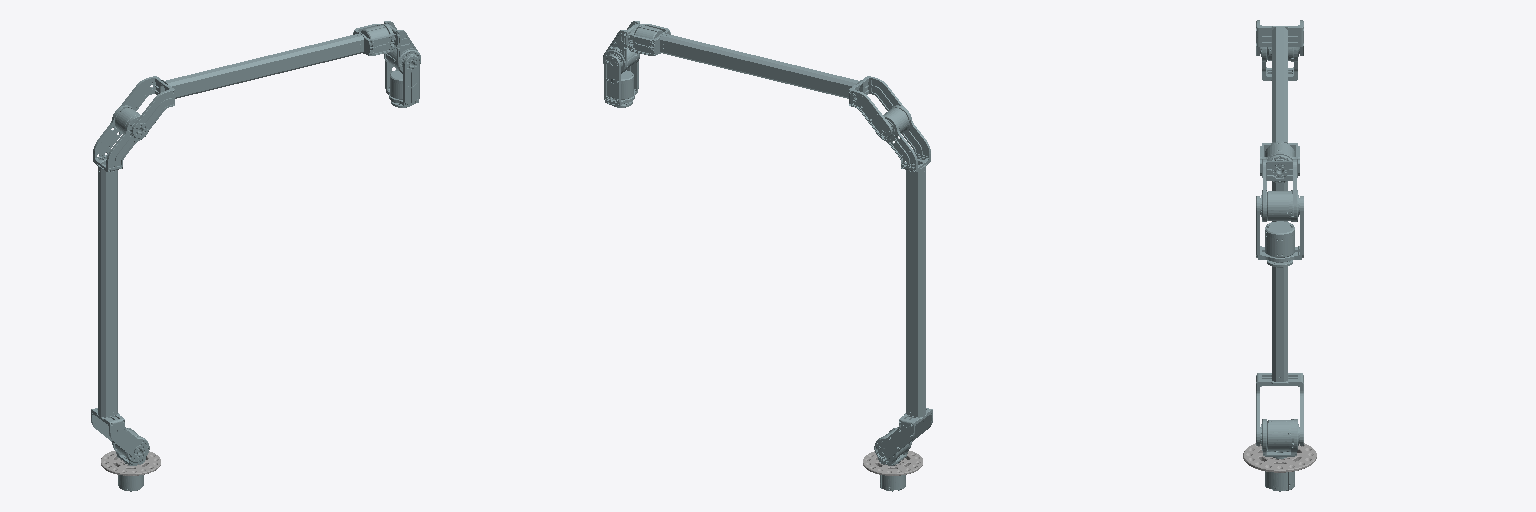
robot.urdf — aimira6:
<?xml version="1.0" encoding="utf-8"?>
<!-- This URDF was automatically created by SolidWorks to URDF Exporter! Originally created by [author] ([email redacted]) 
     Commit Version: 1.6.0-4-g7f85cfe  Build Version: 1.6.7995.38578
     For more information, please see http://wiki.ros.org/sw_urdf_exporter -->
<robot
  name="aimira6">
  <link
    name="base_link">
    <inertial>
      <origin
        xyz="1.04017952292692E-08 6.88547954296048E-11 -0.00393182591263425"
        rpy="0 0 0" />
      <mass
        value="0.153366893342015" />
      <inertia
        ixx="0.000134824007797941"
        ixy="-5.36407098097221E-12"
        ixz="1.08678826257515E-11"
        iyy="0.000134824070151333"
        iyz="1.47533667666662E-13"
        izz="0.000267137850222388" />
    </inertial>
    <visual>
      <origin
        xyz="0 0 0"
        rpy="0 0 0" />
      <geometry>
        <mesh
          filename="package://aimira6/meshes/base_link.STL" />
      </geometry>
      <material
        name="">
        <color
          rgba="0.690196078431373 0.690196078431373 0.690196078431373 1" />
      </material>
    </visual>
    <collision>
      <origin
        xyz="0 0 0"
        rpy="0 0 0" />
      <geometry>
        <mesh
          filename="package://aimira6/meshes/base_link.STL" />
      </geometry>
    </collision>
  </link>
  <link
    name="link1">
    <inertial>
      <origin
        xyz="0.000109828579629579 -0.000165175805369598 -0.019808653010817"
        rpy="0 0 0" />
      <mass
        value="0.314152170173888" />
      <inertia
        ixx="7.64604482226176E-05"
        ixy="-3.11978712692391E-07"
        ixz="7.97142740238091E-09"
        iyy="8.61669728197303E-05"
        iyz="-6.45286703390183E-08"
        izz="9.02262510469105E-05" />
    </inertial>
    <visual>
      <origin
        xyz="0 0 0"
        rpy="0 0 0" />
      <geometry>
        <mesh
          filename="package://aimira6/meshes/link1.STL" />
      </geometry>
      <material
        name="">
        <color
          rgba="0.592156862745098 0.666666666666667 0.682352941176471 1" />
      </material>
    </visual>
    <collision>
      <origin
        xyz="0 0 0"
        rpy="0 0 0" />
      <geometry>
        <mesh
          filename="package://aimira6/meshes/link1.STL" />
      </geometry>
    </collision>
  </link>
  <joint
    name="joint1"
    type="revolute">
    <origin
      xyz="0 0 0"
      rpy="0 0 0" />
    <parent
      link="base_link" />
    <child
      link="link1" />
    <axis
      xyz="0 0 1" />
    <limit
      lower="0"
      upper="0"
      effort="0"
      velocity="0" />
  </joint>
  <link
    name="link2">
    <inertial>
      <origin
        xyz="-0.0301961591482603 0.244586379833867 -0.0007347839341934"
        rpy="0 0 0" />
      <mass
        value="0.777713706471678" />
      <inertia
        ixx="0.00773190010450537"
        ixy="-7.71121525104686E-06"
        ixz="-6.02041690223417E-06"
        iyy="0.000271753322008837"
        iyz="-6.33071741169116E-07"
        izz="0.0078708368316307" />
    </inertial>
    <visual>
      <origin
        xyz="0 0 0"
        rpy="0 0 0" />
      <geometry>
        <mesh
          filename="package://aimira6/meshes/link2.STL" />
      </geometry>
      <material
        name="">
        <color
          rgba="0.592156862745098 0.666666666666667 0.682352941176471 1" />
      </material>
    </visual>
    <collision>
      <origin
        xyz="0 0 0"
        rpy="0 0 0" />
      <geometry>
        <mesh
          filename="package://aimira6/meshes/link2.STL" />
      </geometry>
    </collision>
  </link>
  <joint
    name="joint2"
    type="revolute">
    <origin
      xyz="0 0 0.0345"
      rpy="1.5708 0 0.051022" />
    <parent
      link="link1" />
    <child
      link="link2" />
    <axis
      xyz="-0.051 0 0.9987" />
    <limit
      lower="0"
      upper="0"
      effort="0"
      velocity="0" />
  </joint>
  <link
    name="link3">
    <inertial>
      <origin
        xyz="0.185192224022038 0.0311040596506036 0.000586519231663198"
        rpy="0 0 0" />
      <mass
        value="0.688903385722527" />
      <inertia
        ixx="0.000213264577740228"
        ixy="-4.25096101453383E-05"
        ixz="-6.28896717935606E-07"
        iyy="0.00433913949748342"
        iyz="-6.71312866117713E-07"
        izz="0.00441755349825434" />
    </inertial>
    <visual>
      <origin
        xyz="0 0 0"
        rpy="0 0 0" />
      <geometry>
        <mesh
          filename="package://aimira6/meshes/link3.STL" />
      </geometry>
      <material
        name="">
        <color
          rgba="0.592156862745098 0.666666666666667 0.682352941176471 1" />
      </material>
    </visual>
    <collision>
      <origin
        xyz="0 0 0"
        rpy="0 0 0" />
      <geometry>
        <mesh
          filename="package://aimira6/meshes/link3.STL" />
      </geometry>
    </collision>
  </link>
  <joint
    name="joint3"
    type="revolute">
    <origin
      xyz="0 0.7 0"
      rpy="0 -0.051022 0" />
    <parent
      link="link2" />
    <child
      link="link3" />
    <axis
      xyz="0 0 1" />
    <limit
      lower="0"
      upper="0"
      effort="0"
      velocity="0" />
  </joint>
  <link
    name="link4">
    <inertial>
      <origin
        xyz="0.00740957421480504 -0.000315480442245499 -0.0466896418344882"
        rpy="0 0 0" />
      <mass
        value="0.334652497698763" />
      <inertia
        ixx="7.79899479136191E-05"
        ixy="-3.033429159648E-07"
        ixz="-9.25838976256045E-06"
        iyy="0.000124172042266161"
        iyz="-1.89972976382329E-08"
        izz="0.000126239646901981" />
    </inertial>
    <visual>
      <origin
        xyz="0 0 0"
        rpy="0 0 0" />
      <geometry>
        <mesh
          filename="package://aimira6/meshes/link4.STL" />
      </geometry>
      <material
        name="">
        <color
          rgba="0.592156862745098 0.666666666666667 0.682352941176471 1" />
      </material>
    </visual>
    <collision>
      <origin
        xyz="0 0 0"
        rpy="0 0 0" />
      <geometry>
        <mesh
          filename="package://aimira6/meshes/link4.STL" />
      </geometry>
    </collision>
  </link>
  <joint
    name="joint4"
    type="revolute">
    <origin
      xyz="0.618 0.052 0"
      rpy="-1.5708 0 -1.5708" />
    <parent
      link="link3" />
    <child
      link="link4" />
    <axis
      xyz="0 0 1" />
    <limit
      lower="0"
      upper="0"
      effort="0"
      velocity="0" />
  </joint>
  <link
    name="link5">
    <inertial>
      <origin
        xyz="0.0141179016225014 -0.000144175611274444 0.0012823710617245"
        rpy="0 0 0" />
      <mass
        value="0.334352173137141" />
      <inertia
        ixx="8.30386716577822E-05"
        ixy="1.24971203941448E-08"
        ixz="-8.2084074321369E-07"
        iyy="0.000137398625968353"
        iyz="-1.01136579011778E-08"
        izz="0.000155218516612205" />
    </inertial>
    <visual>
      <origin
        xyz="0 0 0"
        rpy="0 0 0" />
      <geometry>
        <mesh
          filename="package://aimira6/meshes/link5.STL" />
      </geometry>
      <material
        name="">
        <color
          rgba="0.592156862745098 0.666666666666667 0.682352941176471 1" />
      </material>
    </visual>
    <collision>
      <origin
        xyz="0 0 0"
        rpy="0 0 0" />
      <geometry>
        <mesh
          filename="package://aimira6/meshes/link5.STL" />
      </geometry>
    </collision>
  </link>
  <joint
    name="joint5"
    type="revolute">
    <origin
      xyz="0.052 0 0"
      rpy="1.5708 0 0" />
    <parent
      link="link4" />
    <child
      link="link5" />
    <axis
      xyz="0 0 1" />
    <limit
      lower="0"
      upper="0"
      effort="0"
      velocity="0" />
  </joint>
  <link
    name="link6">
    <inertial>
      <origin
        xyz="-0.000184041694461623 2.24702160746509E-06 -0.036732892773676"
        rpy="0 0 0" />
      <mass
        value="0.261928935910918" />
      <inertia
        ixx="5.950273602425E-05"
        ixy="-1.24986654826041E-08"
        ixz="-1.01141758324E-08"
        iyy="6.01266926173309E-05"
        iyz="1.1572222134717E-09"
        izz="7.73631381406489E-05" />
    </inertial>
    <visual>
      <origin
        xyz="0 0 0"
        rpy="0 0 0" />
      <geometry>
        <mesh
          filename="package://aimira6/meshes/link6.STL" />
      </geometry>
      <material
        name="">
        <color
          rgba="0.592156862745098 0.666666666666667 0.682352941176471 1" />
      </material>
    </visual>
    <collision>
      <origin
        xyz="0 0 0"
        rpy="0 0 0" />
      <geometry>
        <mesh
          filename="package://aimira6/meshes/link6.STL" />
      </geometry>
    </collision>
  </link>
  <joint
    name="joint6"
    type="revolute">
    <origin
      xyz="0.1005 0 0"
      rpy="-1.5708 0 -1.5708" />
    <parent
      link="link5" />
    <child
      link="link6" />
    <axis
      xyz="0 0 1" />
    <limit
      lower="0"
      upper="0"
      effort="0"
      velocity="0" />
  </joint>
</robot>

--- What the picture shows (computed from the rendered views, not written in the file) ---
3 views of the same robot in one strip: view 1: azimuth 30°, elevation 25°; view 2: azimuth 150°, elevation 25°; view 3: azimuth 270°, elevation 25° (orthographic).
Robot: aimira6 — 7 links, 6 joints (6 revolute); root link base_link; default pose: every joint at zero.
Links seen in each view (by area): view 1: link2, link3, link5, link4, base_link, link1; view 2: link2, link3, link5, link4, base_link, link1; view 3: link2, link3, link5, link4, base_link, link1, link6.
Boxes of the visible links, x1=… form: link2: x1=91, y1=105, x2=147, y2=459; link3: x1=115, y1=24, x2=395, y2=138; link5: x1=385, y1=47, x2=419, y2=105; link4: x1=361, y1=21, x2=420, y2=73; base_link: x1=101, y1=451, x2=160, y2=475; link1: x1=112, y1=428, x2=149, y2=491; link2: x1=876, y1=105, x2=932, y2=459; link3: x1=628, y1=24, x2=908, y2=138; link5: x1=604, y1=47, x2=638, y2=105; link4: x1=603, y1=21, x2=662, y2=73; base_link: x1=863, y1=451, x2=922, y2=475; link1: x1=874, y1=427, x2=911, y2=491; link2: x1=1256, y1=47, x2=1303, y2=450; link3: x1=1256, y1=20, x2=1303, y2=182; link5: x1=1256, y1=191, x2=1303, y2=262; link4: x1=1261, y1=141, x2=1298, y2=221; base_link: x1=1243, y1=443, x2=1316, y2=472; link1: x1=1261, y1=419, x2=1298, y2=491; link6: x1=1265, y1=221, x2=1294, y2=267.
Size in the robot's own frame: 0.7165 by 0.12 by 0.8685 metres.
Meshes: 7 distinct files referenced, 7 mesh visuals loaded (7 binary STL).
